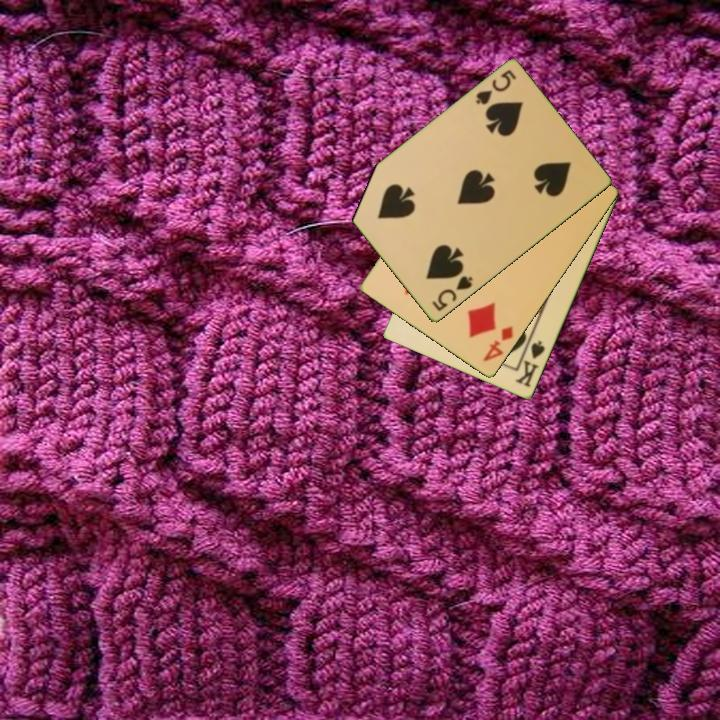4d: (479, 323, 516, 365)
5s: (429, 273, 476, 315), (472, 66, 519, 108)
Ks: (512, 334, 548, 391)
